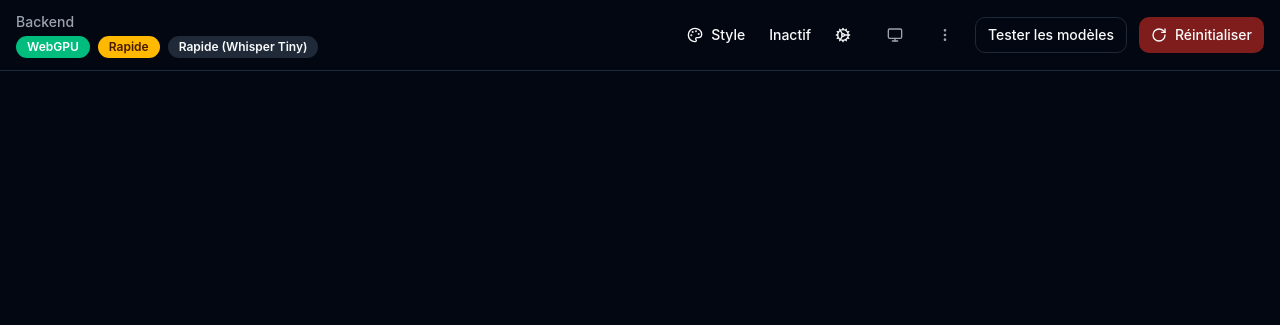
Test: Topbar › filters telemetry console logs by the selected topbar level
Click the button named "Afficher les logs console" at x=895, y=35, box [875,15,915,55]
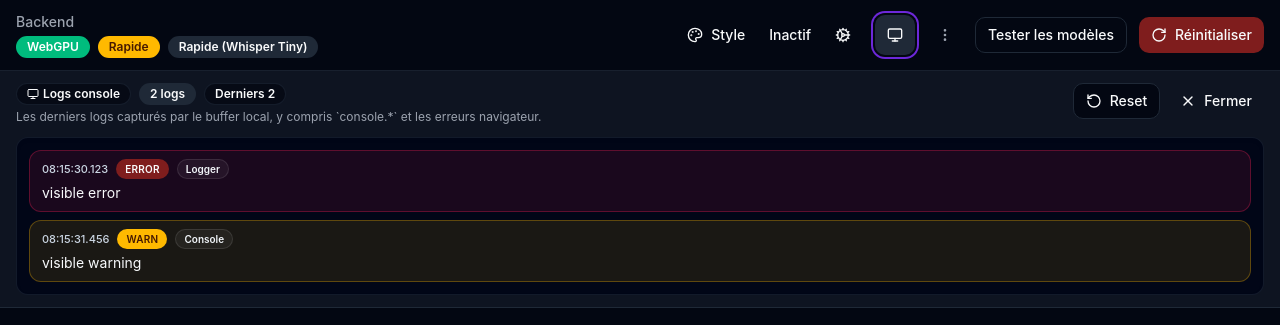
Result: the text "visible error" is shown at [42,184,120,201]
Result: the text "visible warning" is shown at [42,254,141,271]
Result: the text "2 logs" is shown at [139,83,196,105]
